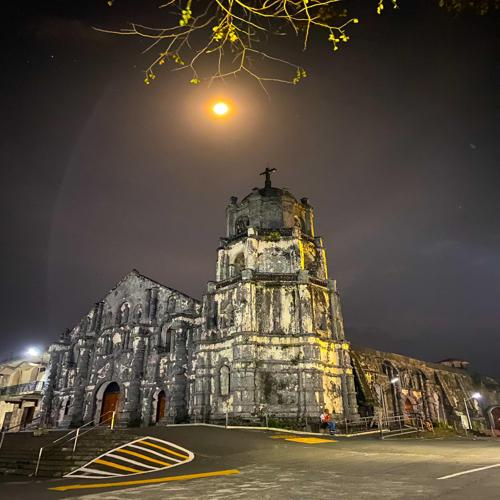Daraga Church: (41, 152, 362, 437)
